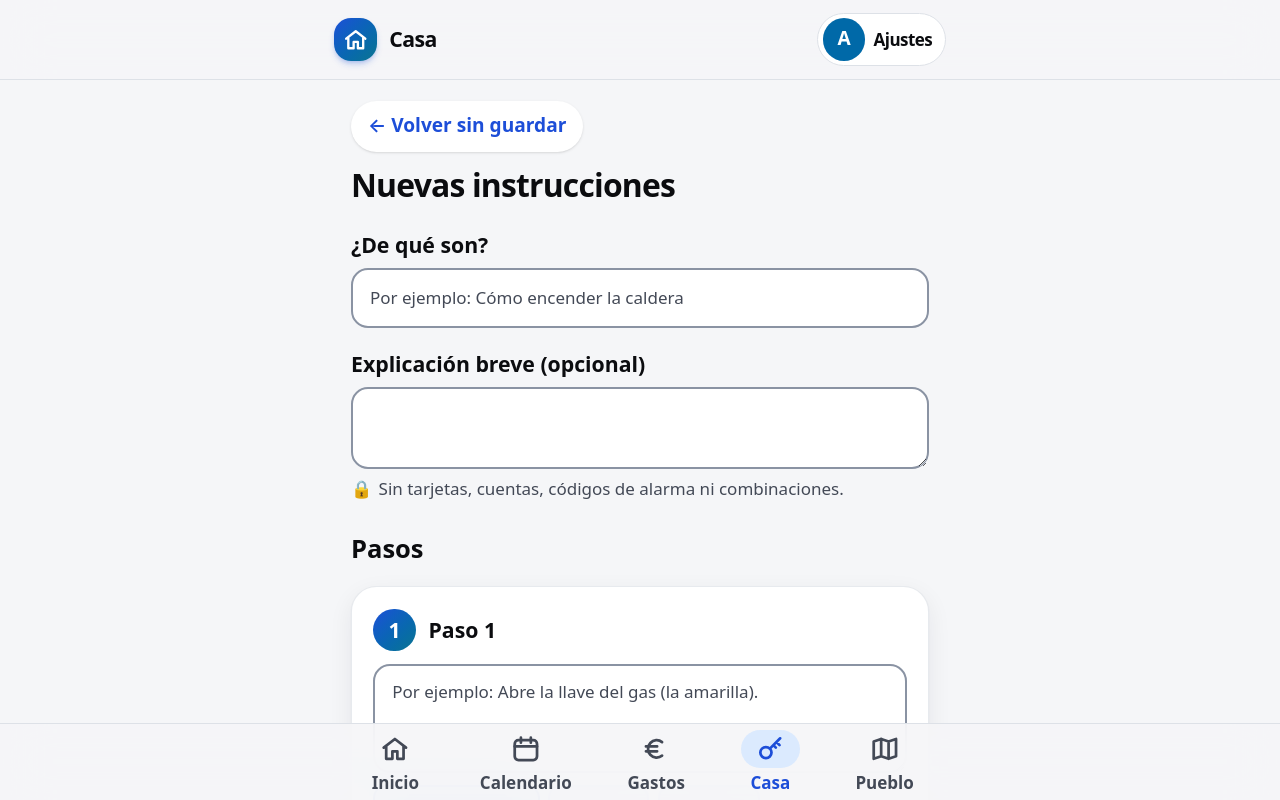
Test: instrucciones › se escriben con varios pasos, en orden, y se ven numerados
The image size is (1280, 800).
Type "Cómo encender la caldera" into the field labelled "¿De qué son?".
click(640, 298); type("Cómo encender la caldera")  # box [351, 268, 929, 328]
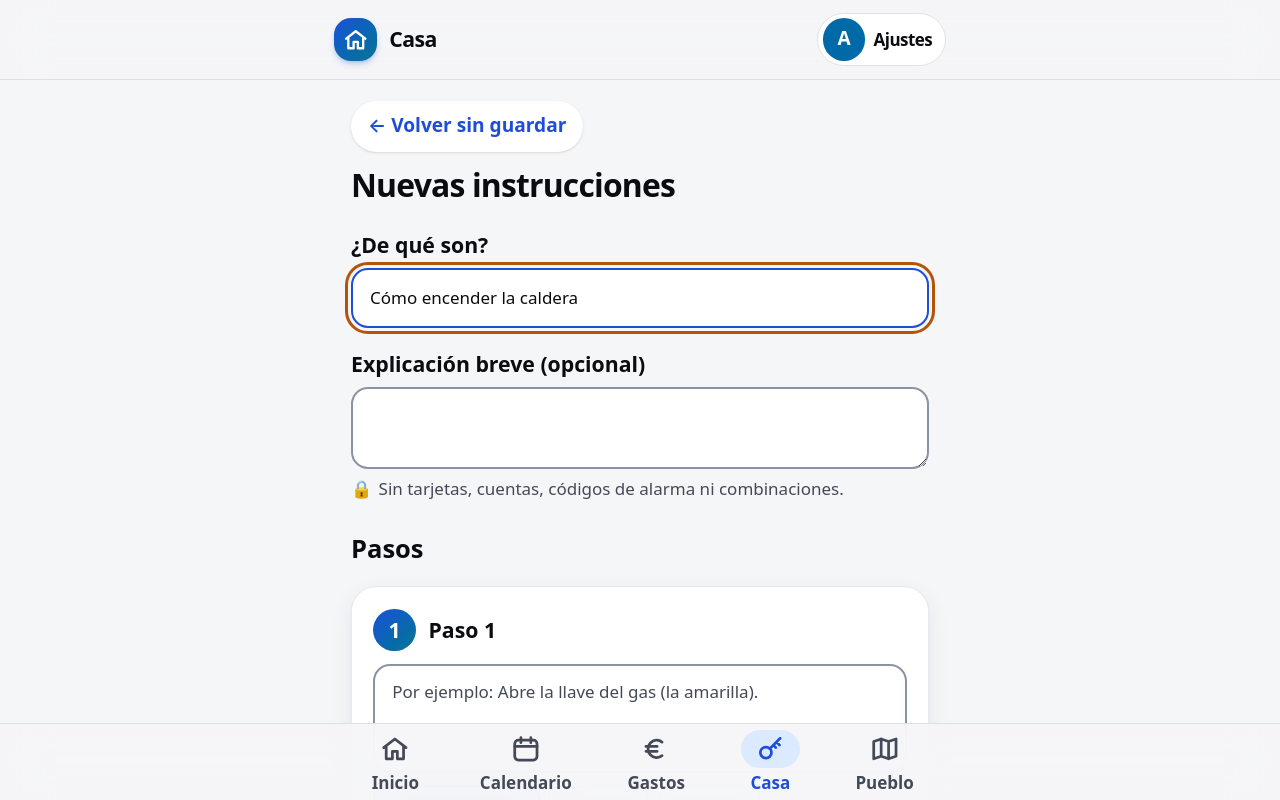
Type "Encender la caldera" into the text box labelled "Paso 1".
click(640, 718); type("Encender la caldera")  # box [373, 664, 907, 773]
(page scrolled)
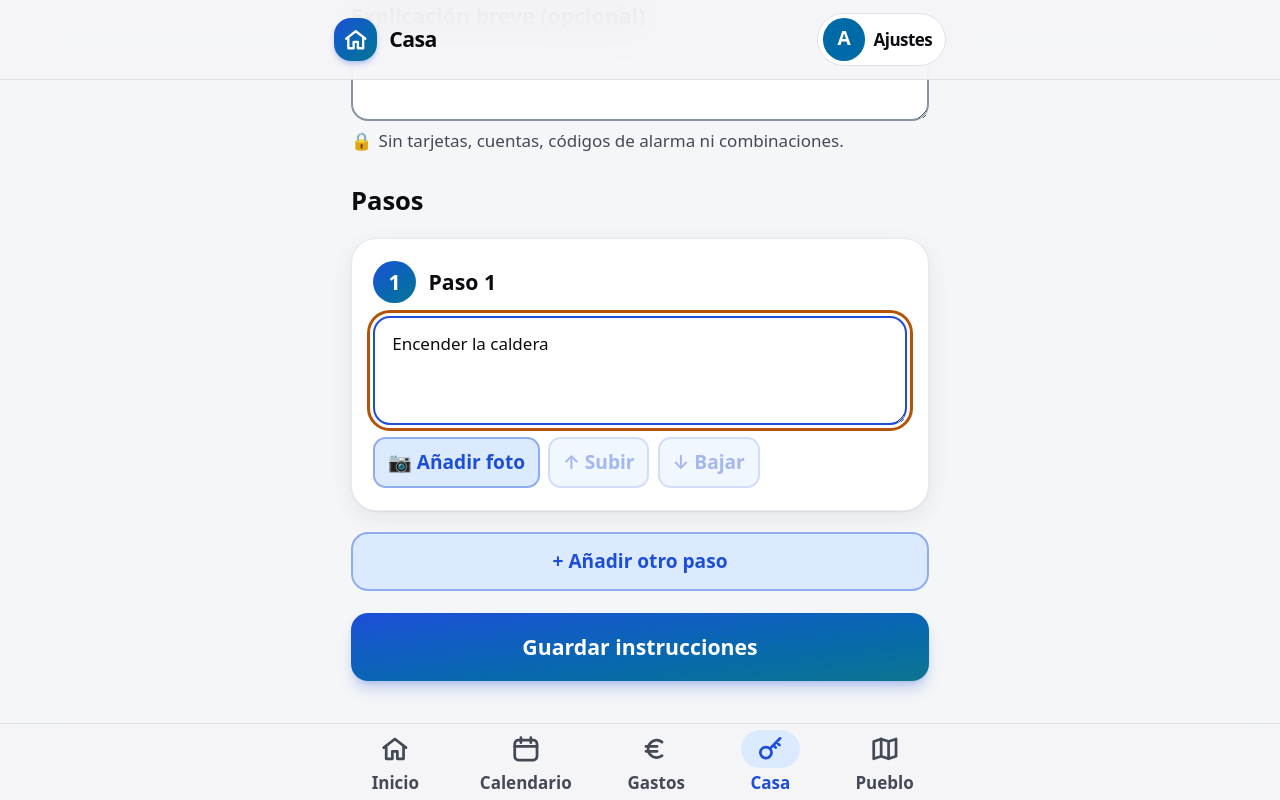
Click the button "+ Añadir otro paso".
click(640, 562)  # box [351, 532, 929, 591]
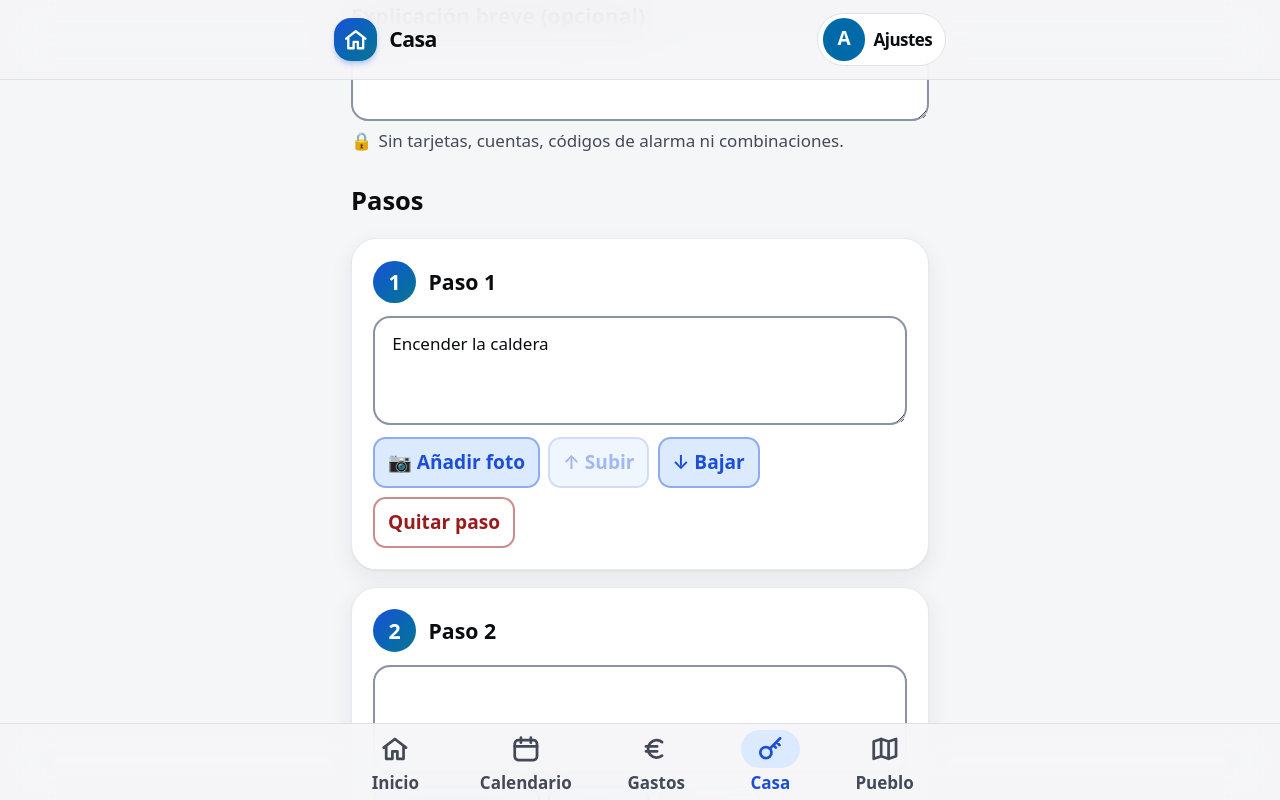
Type "Abrir el gas" into the text box labelled "Paso 2".
click(640, 719); type("Abrir el gas")  # box [373, 665, 907, 773]
(page scrolled)
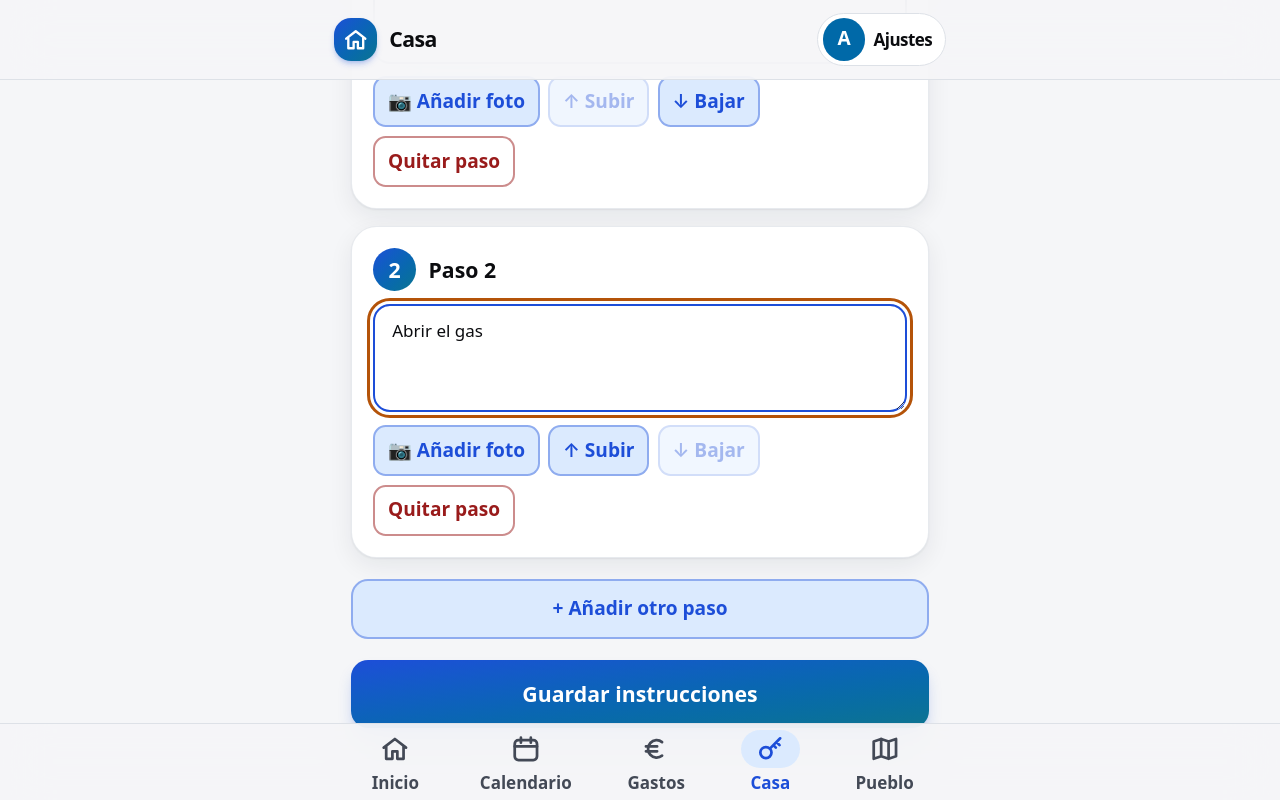
Note: El gas va primero: subir el paso 2.
Click the button with aria-label "Subir el paso 2".
click(599, 451)  # box [548, 425, 649, 476]
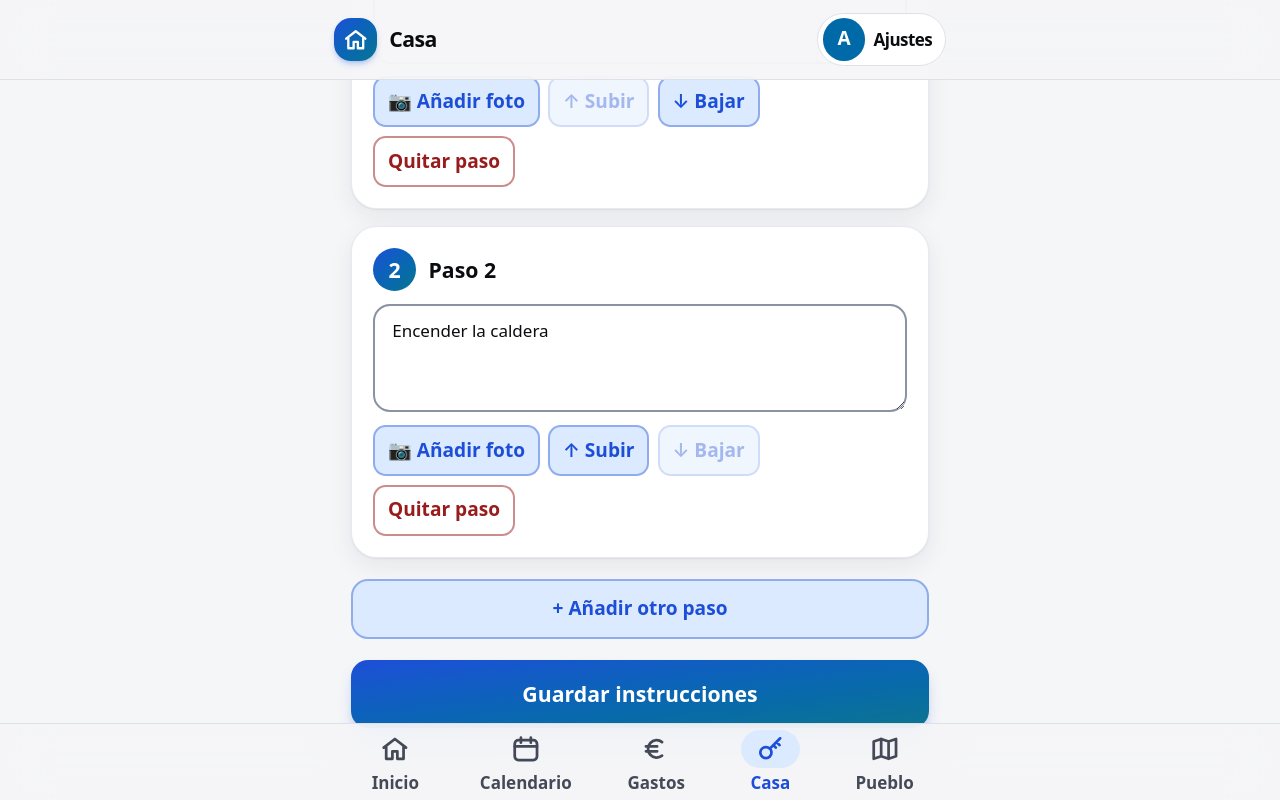
Click the button "Guardar instrucciones".
click(640, 694)  # box [351, 660, 929, 728]
(page scrolled)
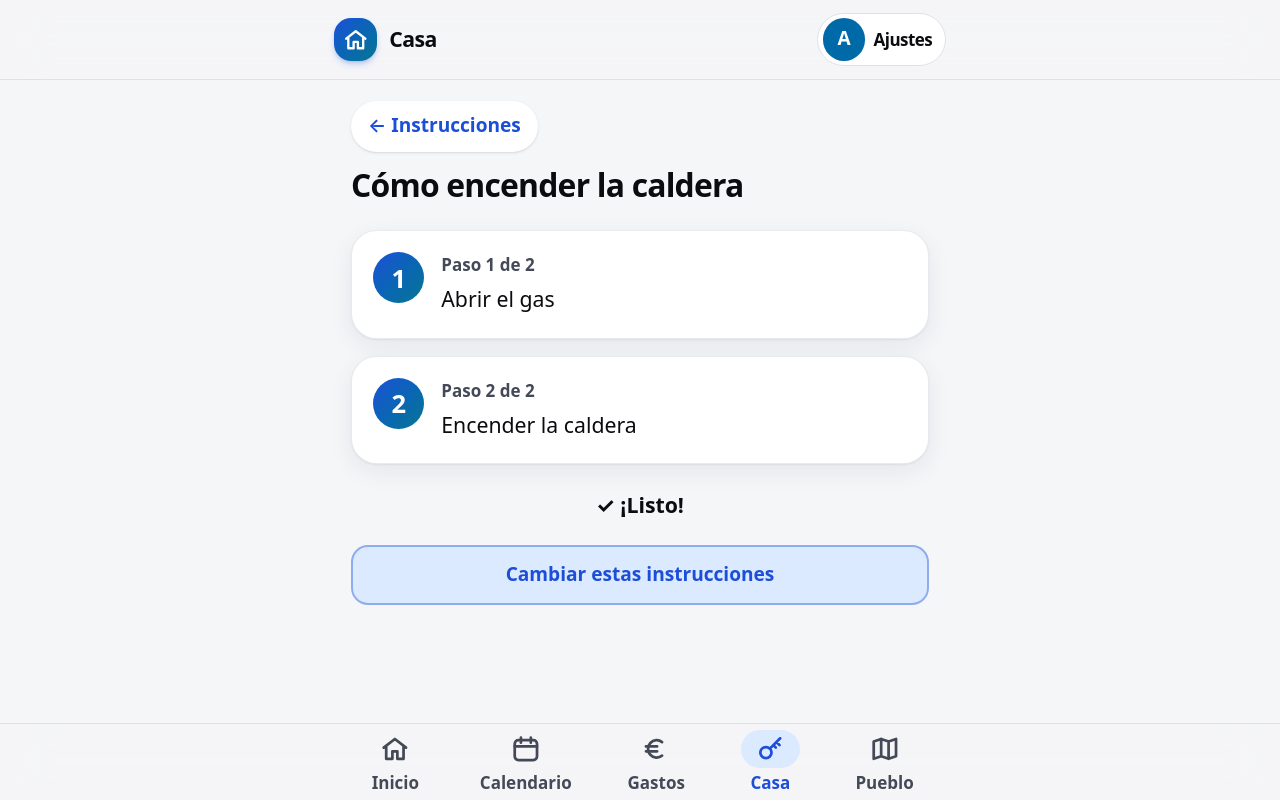
Now the text "Paso 1 de 2" is shown, box [441, 253, 535, 276]
